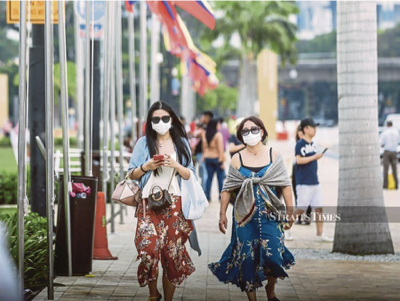with_mask: (151, 115, 172, 135), (241, 126, 262, 146)
without_mask: (305, 125, 317, 139)
